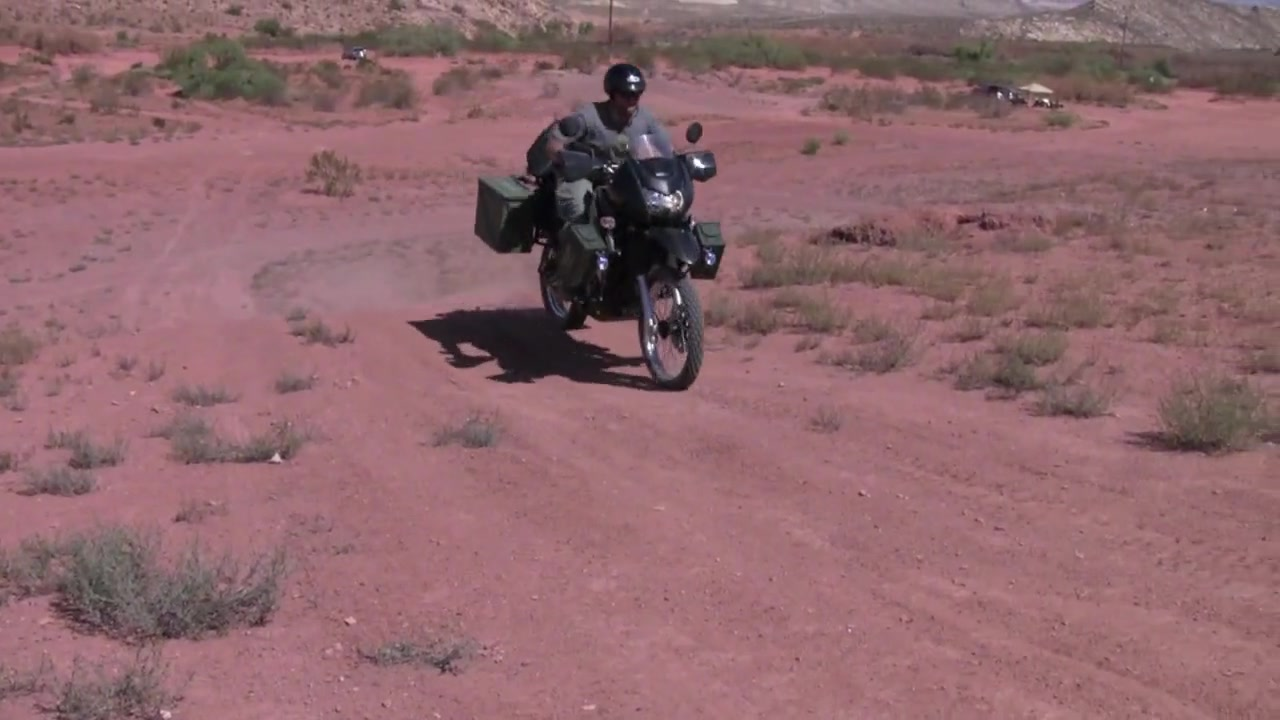motorbike: (524, 114, 719, 391)
